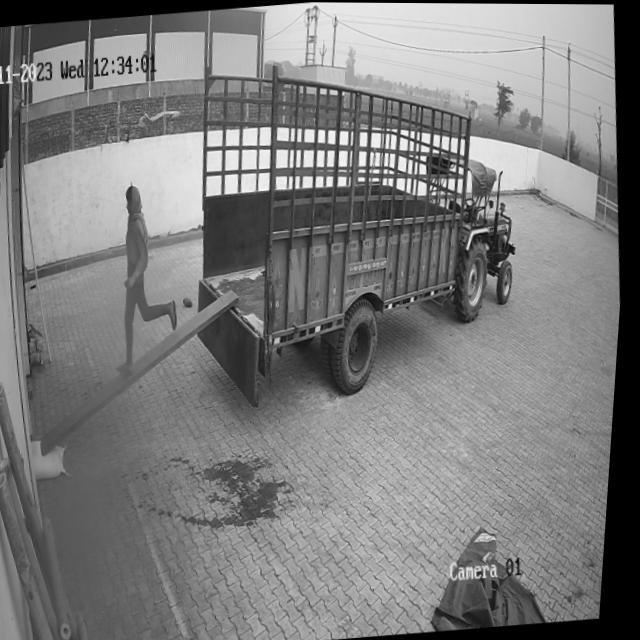sack: (34, 437, 74, 480)
